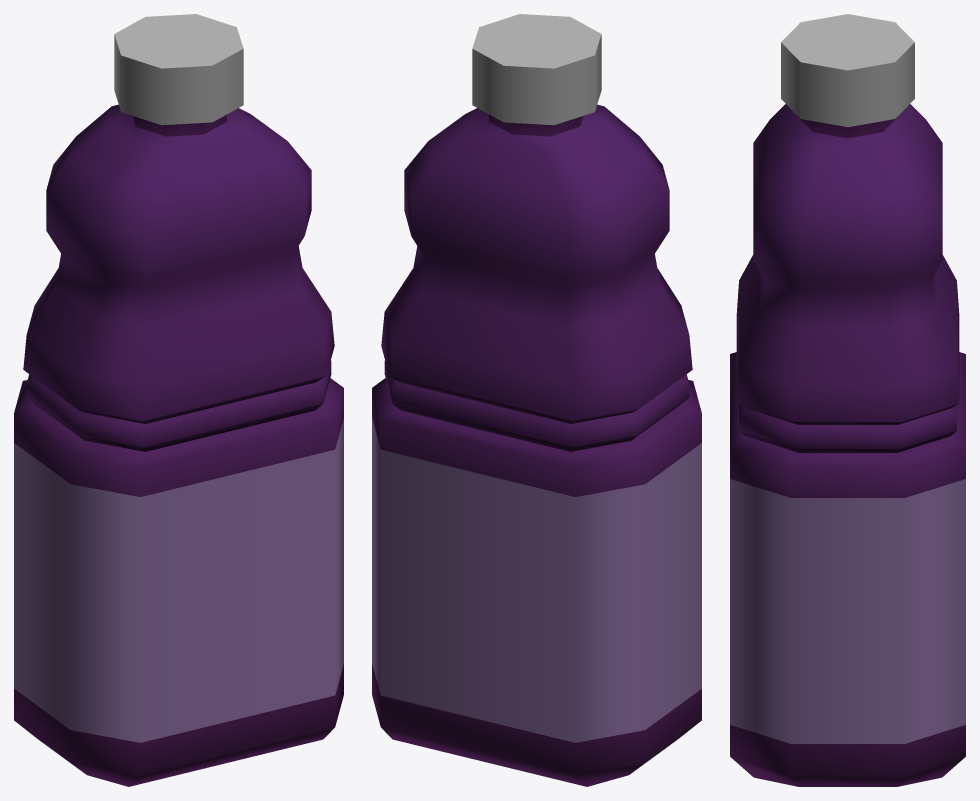
3 renders of one model, left to right at view 1: azimuth 30°, elevation 25°; view 2: azimuth 150°, elevation 25°; view 3: azimuth 270°, elevation 25°, orthographic.
Parts seen in each view (by area): view 1: GrapeJuice; view 2: GrapeJuice; view 3: GrapeJuice.
Part boxes in pixels (x1,y1,x2,y2): GrapeJuice: (14, 14, 343, 786); GrapeJuice: (372, 14, 701, 786); GrapeJuice: (730, 14, 965, 786).
Bounding box in the file's own units: 0.2078 × 0.5 × 0.1553.
